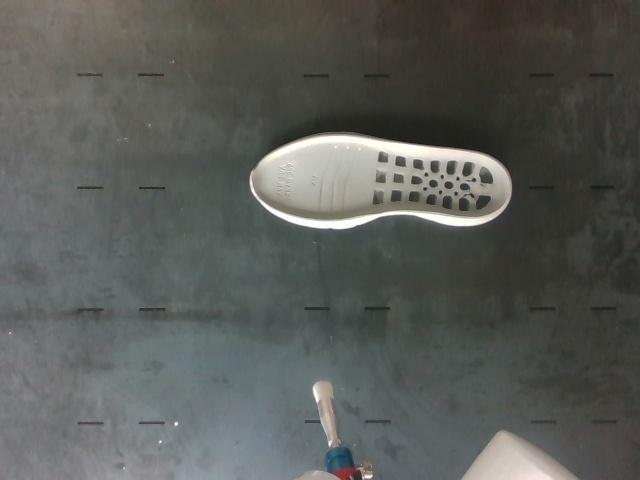shoes: (250, 136, 512, 221)
